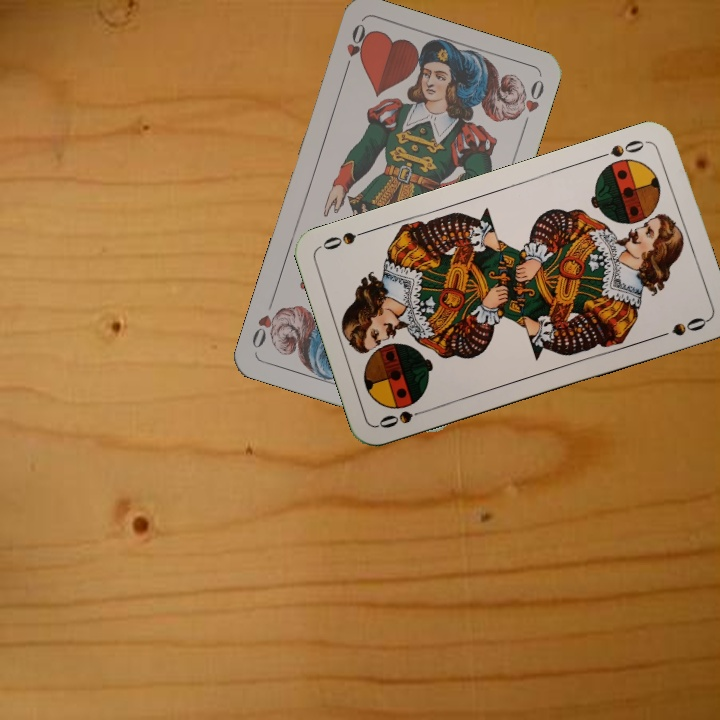HO: (340, 19, 371, 77)
SO: (374, 404, 433, 431), (593, 136, 651, 162)
